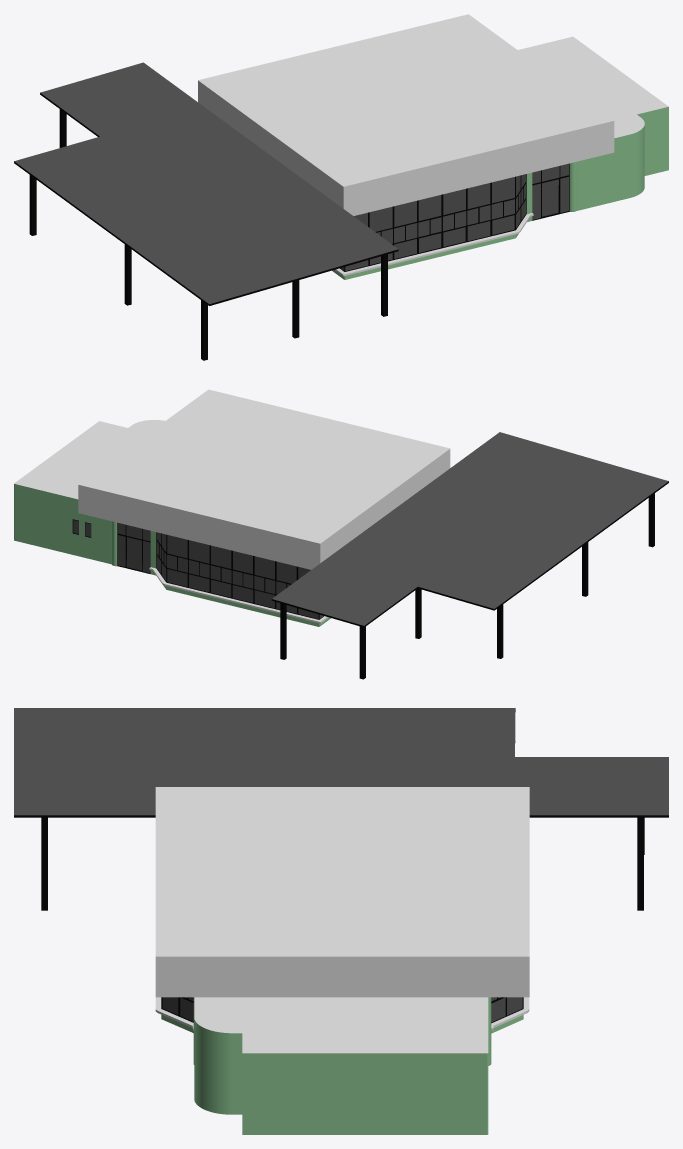
The model's file is CAFETERIA.glb.
The picture shows the model from 3 angles, top to bottom: view 1: azimuth 30°, elevation 25°; view 2: azimuth 150°, elevation 25°; view 3: azimuth 270°, elevation 25°; orthographic projection. The views are drawn at different scales.
Visible parts, largest first — view 1: Cube; view 2: Cube; view 3: Cube.
Boxes of the visible parts, <box> form: Cube: <box>14,14,668,360</box>; Cube: <box>14,389,668,679</box>; Cube: <box>14,708,668,1134</box>.
Size of the model in its own units: 35.89 by 6.02 by 28.92.
